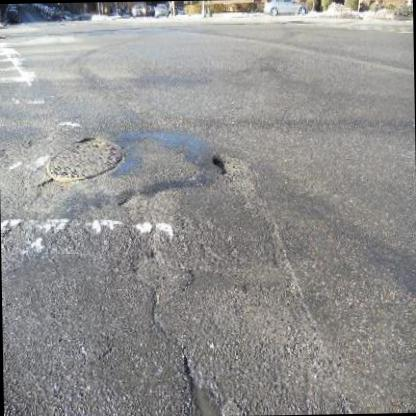pothole: (183, 357, 228, 415), (211, 150, 246, 176)
